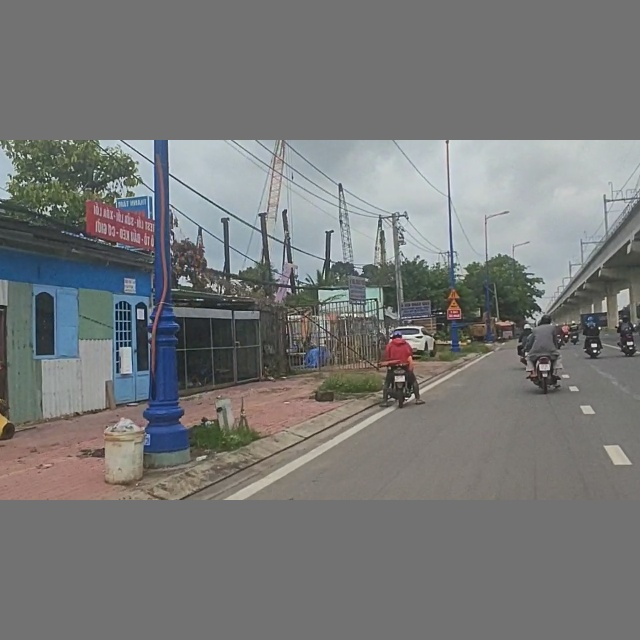W.203c: (446, 289, 459, 299)
W.245a: (447, 299, 461, 309)
